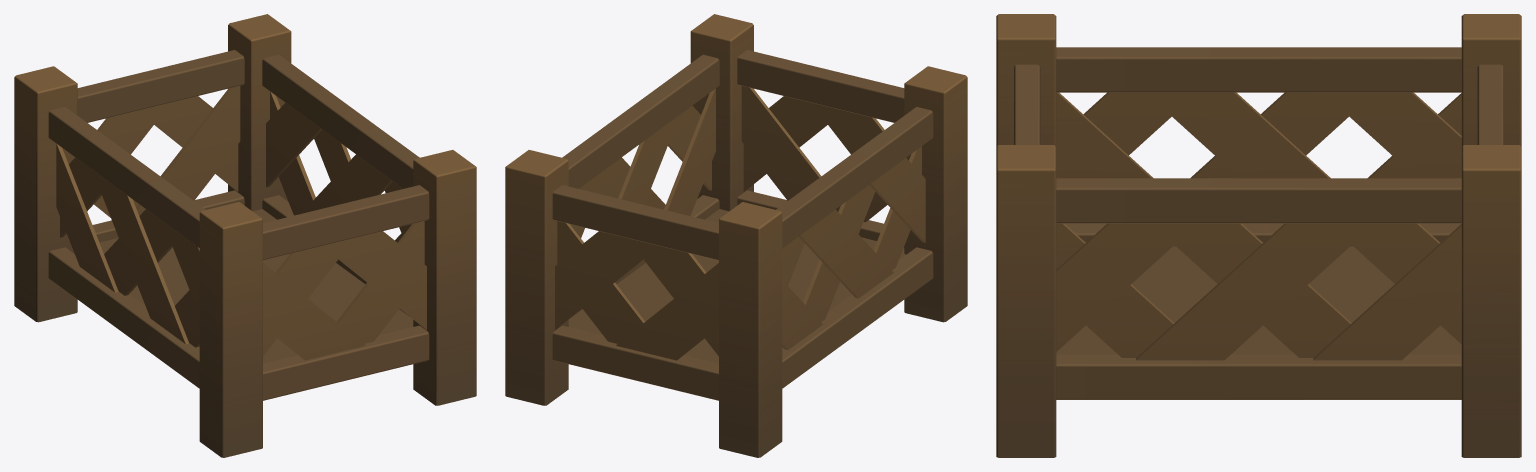
The model's file is PlantCrate1.fbx.
3 views of the same model, side by side, from view 1: azimuth 30°, elevation 25°; view 2: azimuth 150°, elevation 25°; view 3: azimuth 270°, elevation 25° (orthographic). The views are drawn at different scales.
Parts seen in each view (by area): view 1: PlantCrate1; view 2: PlantCrate1; view 3: PlantCrate1.
Boxes of the visible parts, left/top/right/bottom form: PlantCrate1: left=14, top=14, right=476, bottom=457; PlantCrate1: left=505, top=14, right=967, bottom=457; PlantCrate1: left=996, top=14, right=1521, bottom=457.
Size of the model in its own units: 116 by 99.52 by 164.
